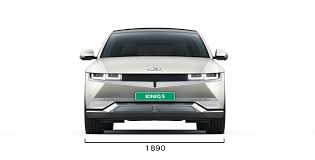Honda Ioniq: (75, 20, 235, 155)
